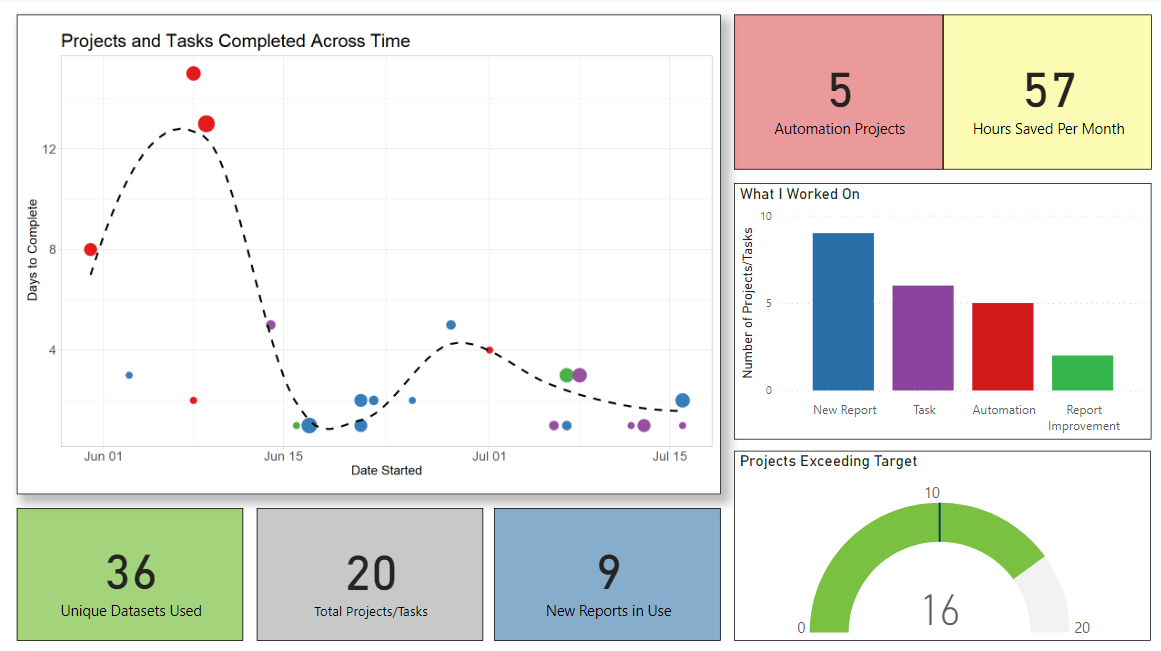

Layout of this report page (visuals, bound fields, positions):
{"tool":"powerbi","page":{"name":"Page 1","canvas":[1280,720],"ordinal":0},"visuals":[{"type":"card","fields":{"Values":["Count(Sheet1.DATASETS)"]},"box":[20.6,561.7,248.6,145.6],"z":0},{"type":"scriptVisual","fields":{"Values":["Sheet1.DATASETS","Sheet1.DATE_COMPLETED","Sheet1.DATE_STARTED","Sheet1.DAYS_TAKEN","Sheet1.MONTHLY_FREQUENCY","Sheet1.NEW_TASK_TIME","Sheet1.ORIGINAL_PROJECT_LIST","Sheet1.PREVIOUS_TASK_TIME","Sheet1.PROJECT/TASK_NAME","Sheet1.SKILLS_USED","Sheet1.TYPE"]},"box":[20.6,19.2,773.2,527.4],"z":1000},{"type":"card","fields":{"Values":["Count(Sheet1.PROJECT/TASK_NAME)"]},"box":[284.3,561.7,248.6,145.6],"z":2000},{"type":"card","fields":{"Values":["Count(Sheet1.PROJECT/TASK_NAME)"]},"box":[545.2,561.7,248.6,145.6],"z":3000},{"type":"card","fields":{"Values":["Sum(Sheet1.Time Saved)"]},"box":[1038.3,19.2,229.4,170.3],"z":4000},{"type":"gauge","title":"Projects Exceeding Target","fields":{"TargetValue":["Sheet1.Measure"],"Y":["Count(Sheet1.PROJECT/TASK_NAME)"],"MaxValue":["Sheet1.Max"]},"box":[808.9,498.5,457.3,208.8],"z":5000},{"type":"card","fields":{"Values":["Count(Sheet1.PROJECT/TASK_NAME)"]},"box":[808.9,19.2,229.4,170.3],"z":6000},{"type":"columnChart","title":"What I Worked On","fields":{"Category":["Sheet1.TYPE"],"Y":["Count(Sheet1.PROJECT/TASK_NAME)"]},"box":[808.9,204.6,458.7,281.5],"z":7000}]}

Visuals, with their boxes in screenshot pixels (x1, y1, x2, y2), scaled from the page's 1280x720 canvas onto the 1161x651 screenshot:
card - Count(Sheet1.DATASETS): 19, 508, 244, 640
scriptVisual - Sheet1.DATASETS x Sheet1.DATE_COMPLETED: 19, 17, 720, 494
card - Count(Sheet1.PROJECT/TASK_NAME): 258, 508, 483, 640
card - Count(Sheet1.PROJECT/TASK_NAME): 495, 508, 720, 640
card - Sum(Sheet1.Time Saved): 942, 17, 1150, 171
"Projects Exceeding Target" gauge: 734, 451, 1148, 640
card - Count(Sheet1.PROJECT/TASK_NAME): 734, 17, 942, 171
"What I Worked On" columnChart: 734, 185, 1150, 440
